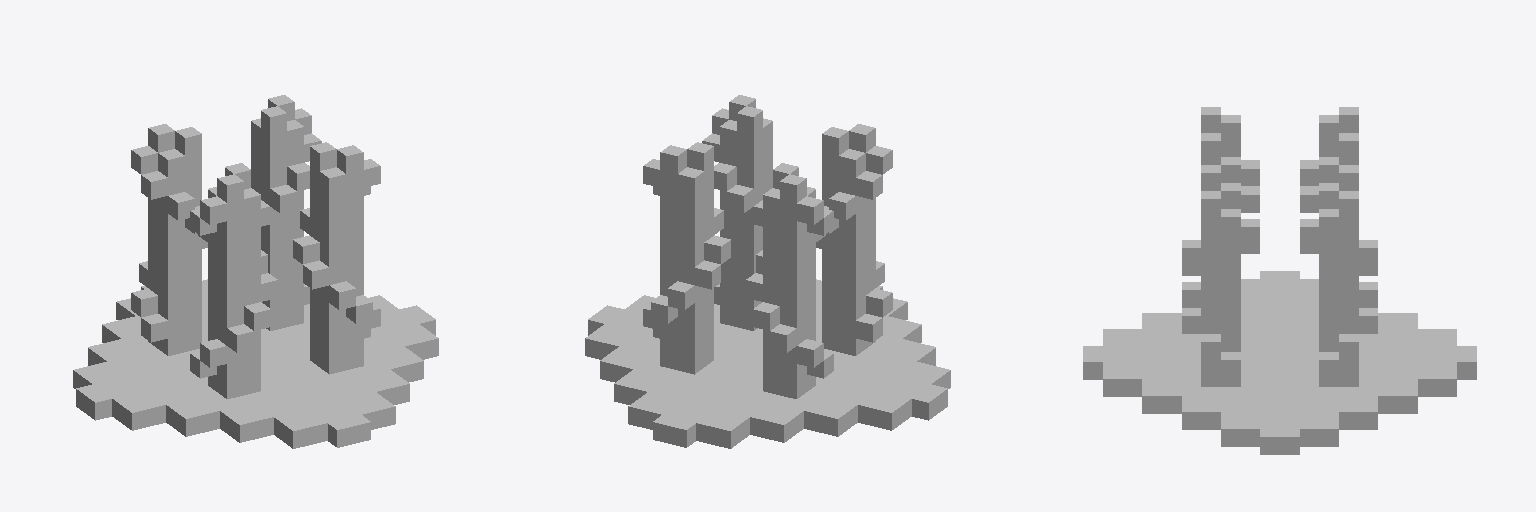
File: Tower Base Lightening tower.obj
3 renders of one model, left to right at view 1: azimuth 30°, elevation 25°; view 2: azimuth 150°, elevation 25°; view 3: azimuth 270°, elevation 25°, orthographic.
Parts seen in each view (by area): view 1: object 1; view 2: object 1; view 3: object 1.
Part boxes in pixels (x1,y1,x2,y2): object 1: (73, 95, 438, 448); object 1: (585, 95, 950, 448); object 1: (1083, 107, 1476, 454).
Bounding box in the file's own units: 2 × 1.3 × 2.